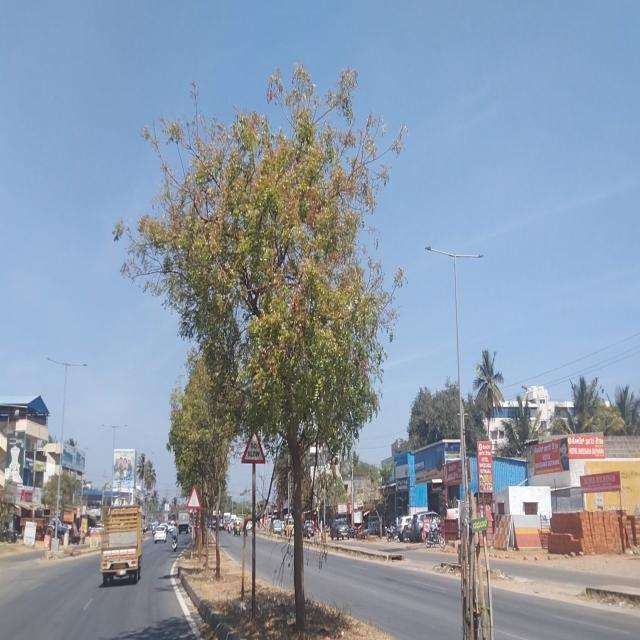bien_cam: (240, 427, 266, 464), (187, 485, 200, 510)
